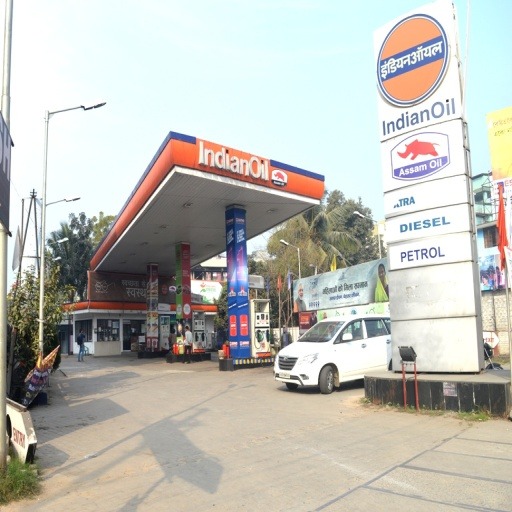roof: (89, 130, 325, 277)
